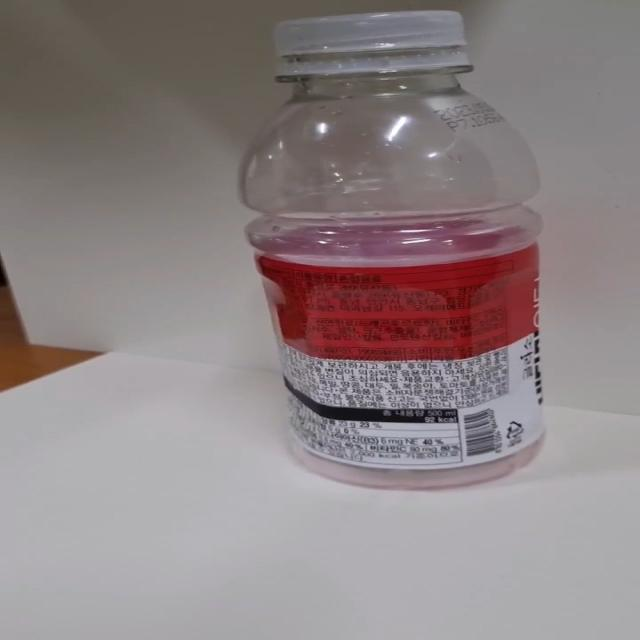Plastic: (236, 10, 548, 493)
